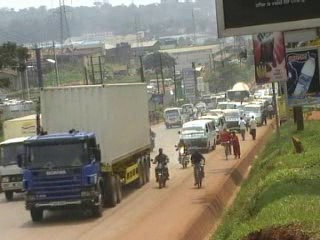Motorcycle: (151, 149, 172, 190), (173, 138, 191, 169), (149, 125, 157, 151)
